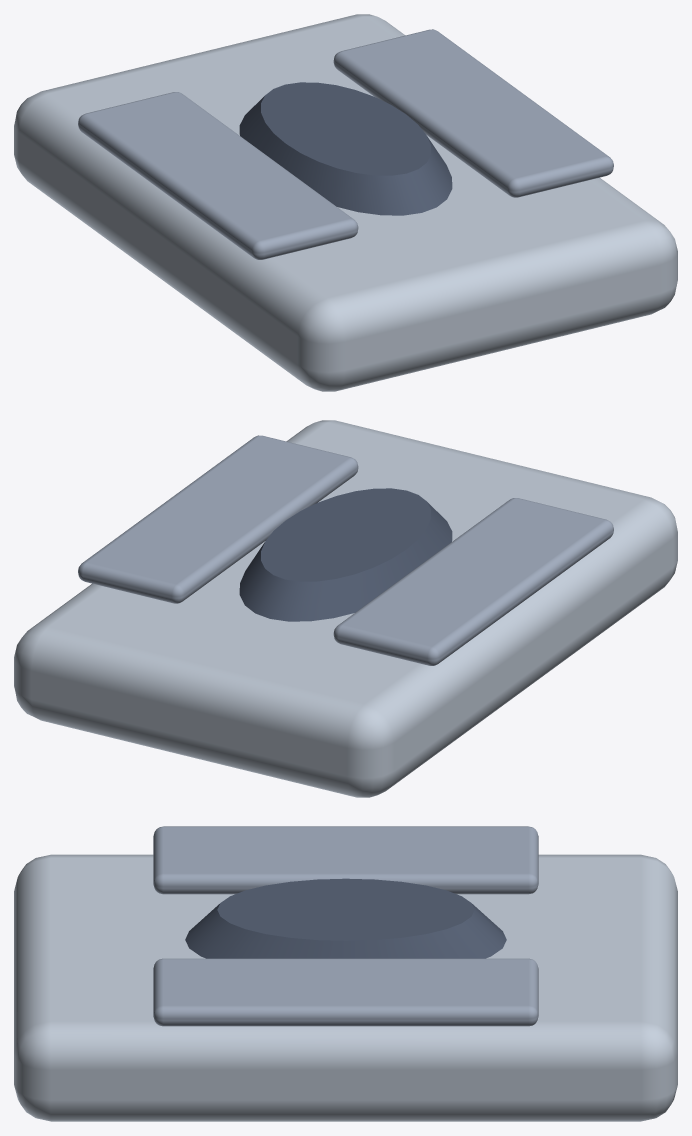
Rendered from squattoilet-lite.glb.
3 renders of one model, top to bottom at view 1: azimuth 30°, elevation 25°; view 2: azimuth 150°, elevation 25°; view 3: azimuth 270°, elevation 25°, orthographic. The views are drawn at different scales.
Visible parts, largest first — view 1: squattoilet; view 2: squattoilet; view 3: squattoilet.
Boxes of the visible parts, <box> form: squattoilet: <box>14,14,677,391</box>; squattoilet: <box>14,420,677,797</box>; squattoilet: <box>14,826,677,1121</box>.
Size of the model in its own units: 0.45 by 0.1368 by 0.65.
